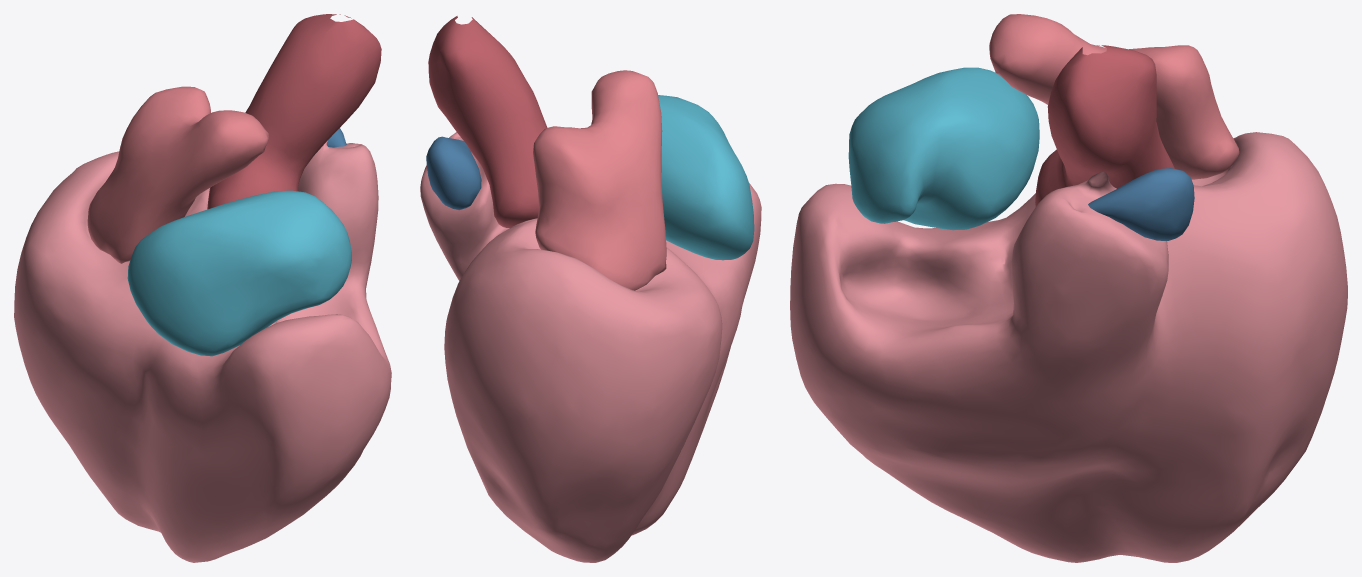
Rendered from frame_62.glb.
3 views of the same model, side by side, from view 1: azimuth 30°, elevation 25°; view 2: azimuth 150°, elevation 25°; view 3: azimuth 270°, elevation 25° (orthographic). The views are drawn at different scales.
Visible parts, largest first — view 1: Renderer Node; view 2: Renderer Node; view 3: Renderer Node.
Boxes of the visible parts, x1,y1,x2,y2 form: Renderer Node: [14, 14, 391, 562]; Renderer Node: [420, 16, 761, 562]; Renderer Node: [790, 14, 1347, 562].
Size of the model in its own units: 107 by 164 by 137.
